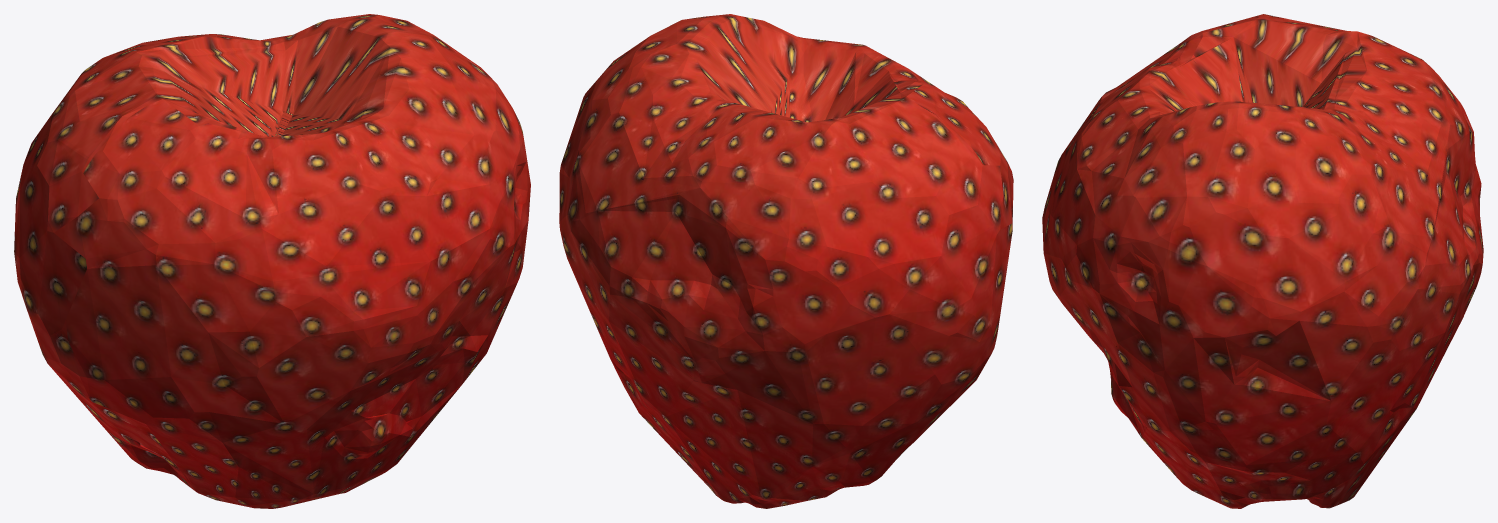
The picture shows the model from 3 angles, left to right: view 1: azimuth 30°, elevation 25°; view 2: azimuth 150°, elevation 25°; view 3: azimuth 270°, elevation 25°; orthographic projection. The views are drawn at different scales.
Visible parts, largest first — view 1: _002_Meshed; view 2: _002_Meshed; view 3: _002_Meshed.
Part boxes in pixels (x1=…): _002_Meshed: x1=14, y1=14, x2=530, y2=508; _002_Meshed: x1=559, y1=14, x2=1013, y2=508; _002_Meshed: x1=1042, y1=14, x2=1483, y2=508.
Bounding box in the file's own units: 0.1 × 0.0879 × 0.0956.
1 material, 1 textured.
